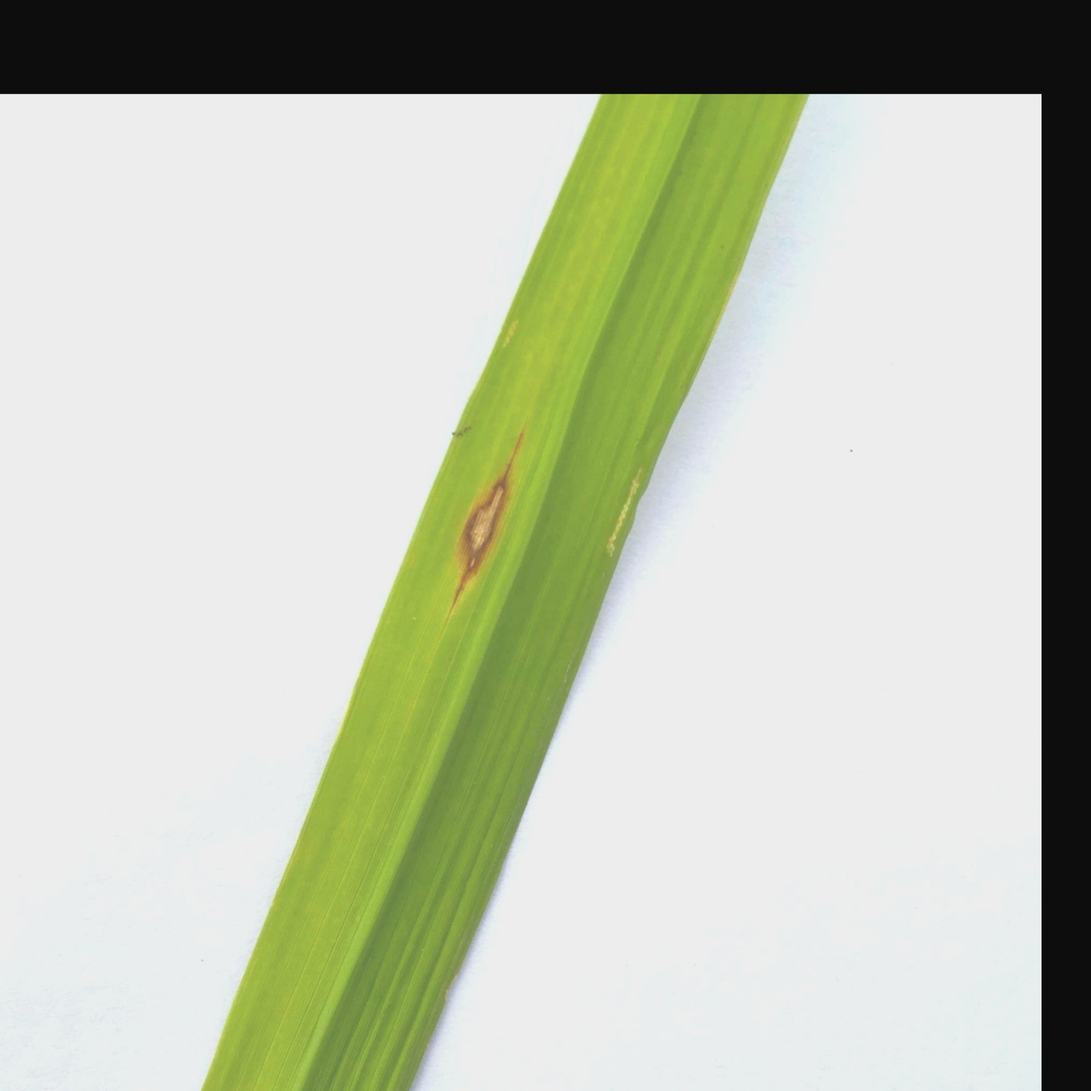Brown_Spot: (432, 415, 544, 597)
